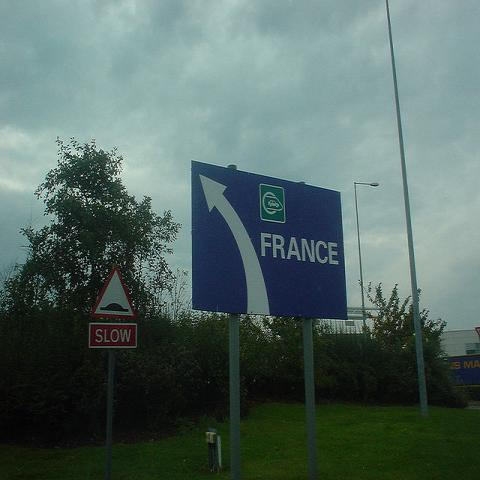truck: (438, 353, 479, 388)
